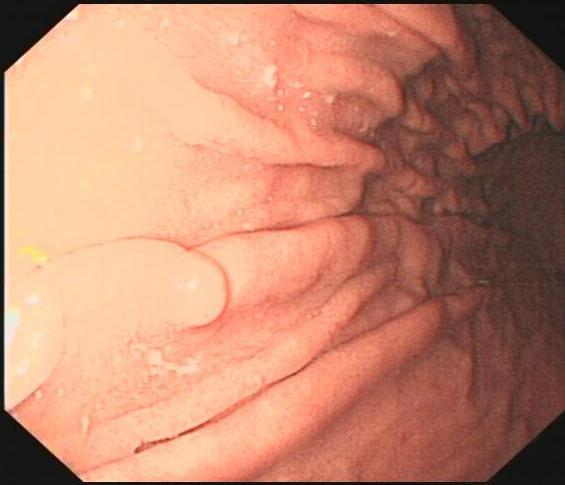Polyp: (164, 244, 228, 342)
